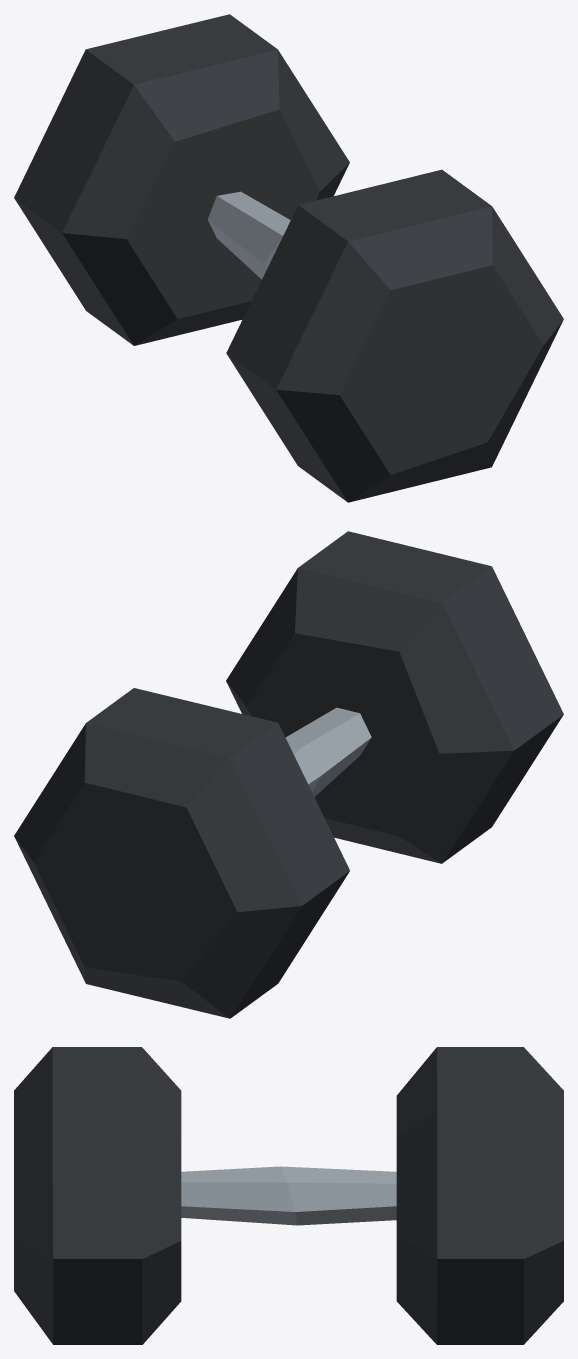
File: SM_Prop_Dumbbell_01.fbx
3 renders of one model, top to bottom at view 1: azimuth 30°, elevation 25°; view 2: azimuth 150°, elevation 25°; view 3: azimuth 270°, elevation 25°, orthographic. The views are drawn at different scales.
Parts seen in each view (by area): view 1: SM_Prop_Dumbbell_01; view 2: SM_Prop_Dumbbell_01; view 3: SM_Prop_Dumbbell_01.
Part boxes in pixels (x1,y1,x2,y2): SM_Prop_Dumbbell_01: (14, 14, 563, 502); SM_Prop_Dumbbell_01: (14, 531, 563, 1018); SM_Prop_Dumbbell_01: (14, 1047, 563, 1344).
Bounding box in the file's own units: 20.44 × 17.7 × 37.61.
